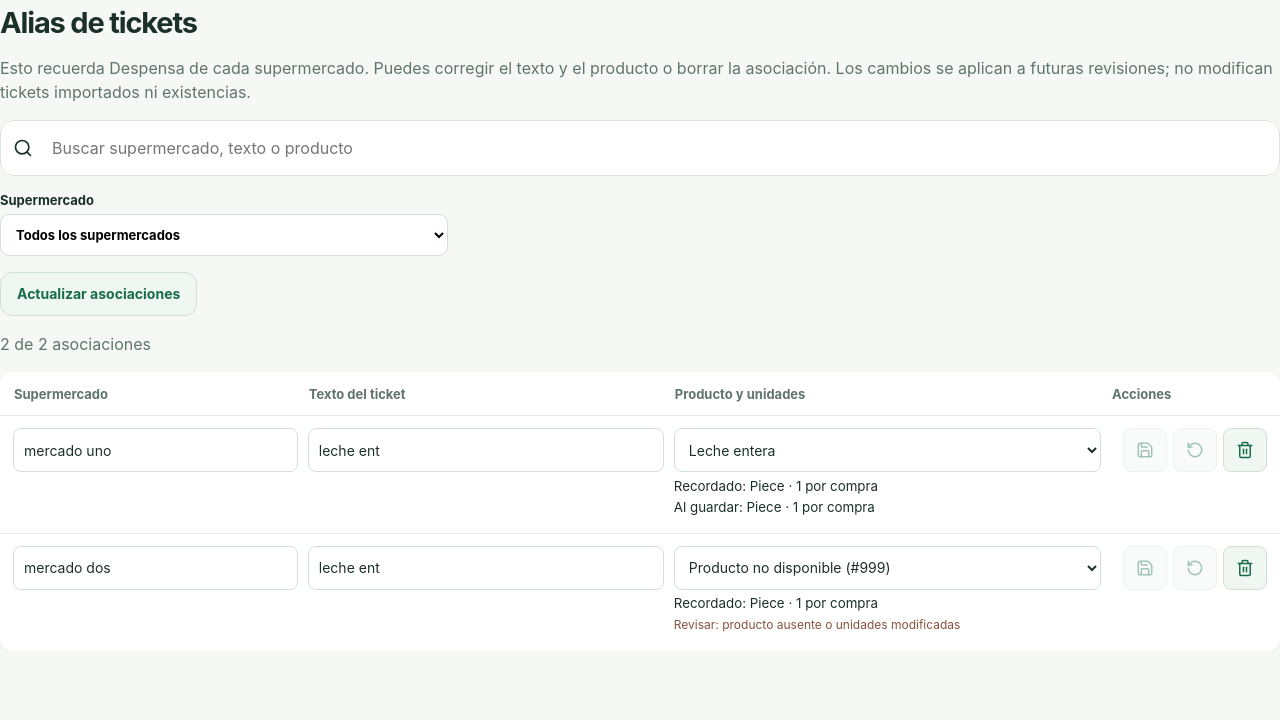
deletion needs explicit yes, targets one mapping, and does not replay errors
Click the button named "Eliminar leche ent (mercado uno)": [1245, 450] box top-left (1223, 428), bottom-right (1267, 472)
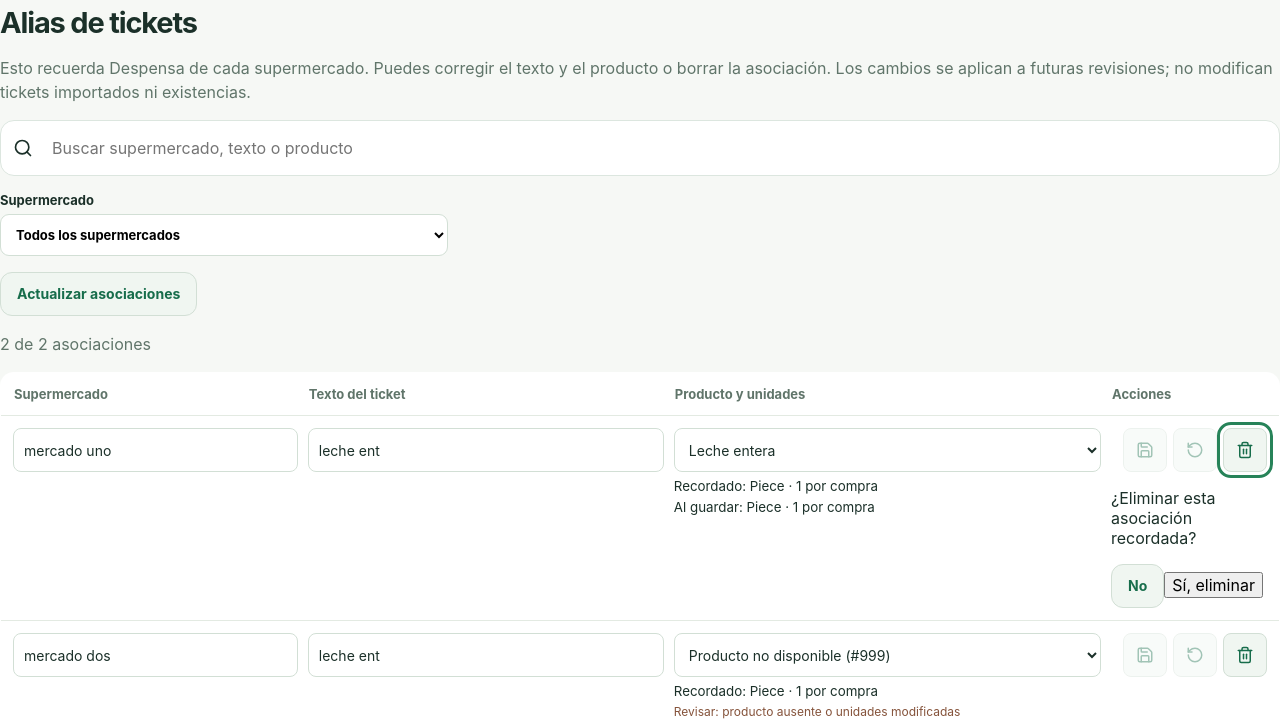
Click the button "No": [1138, 586] box top-left (1111, 564), bottom-right (1164, 608)
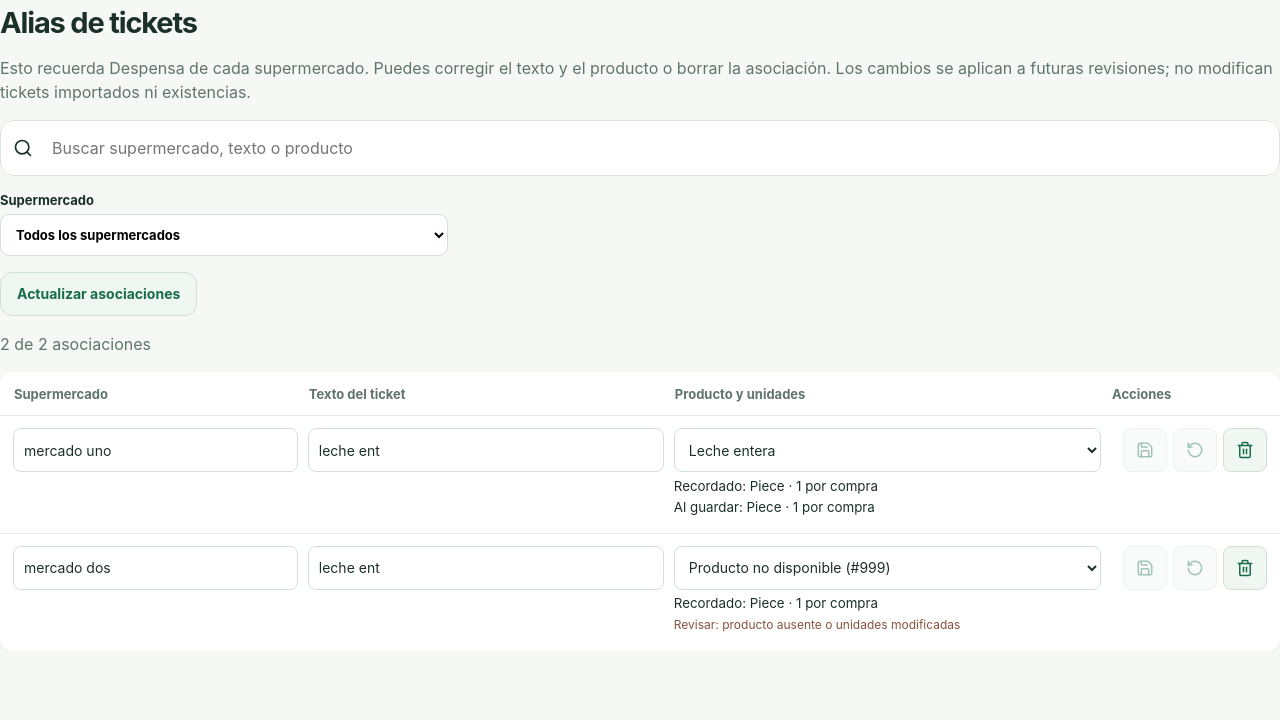
Click the button named "Eliminar leche ent (mercado uno)": [1245, 450] box top-left (1223, 428), bottom-right (1267, 472)
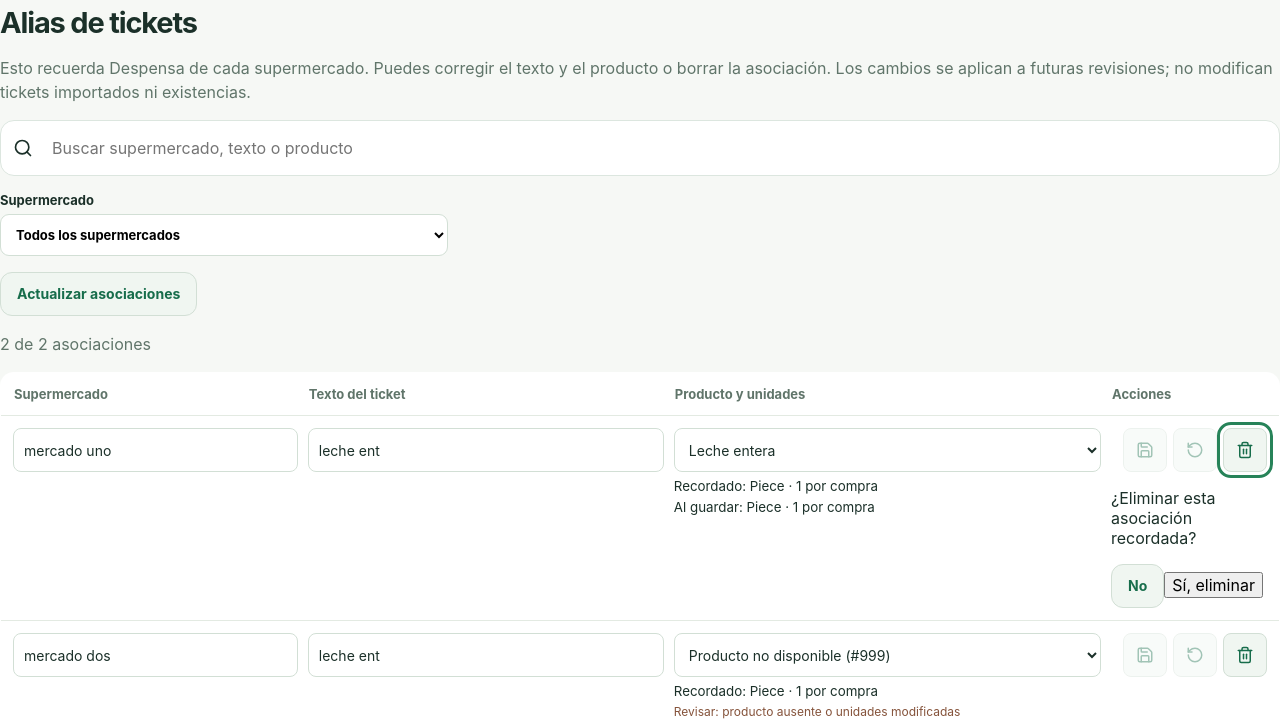
Click the button "Sí, eliminar": [1214, 585] box top-left (1164, 572), bottom-right (1263, 598)
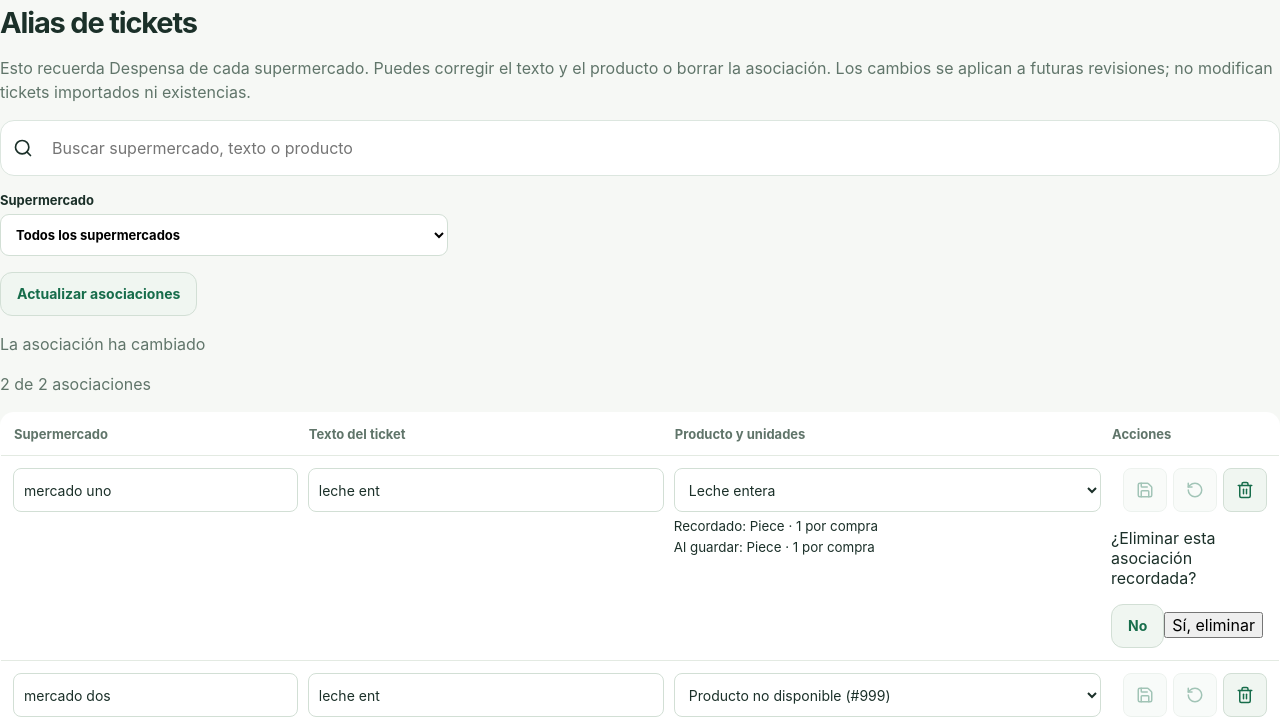
Result: the message "La asociación ha cambiado" is shown at top-left (0, 334), bottom-right (205, 354)
